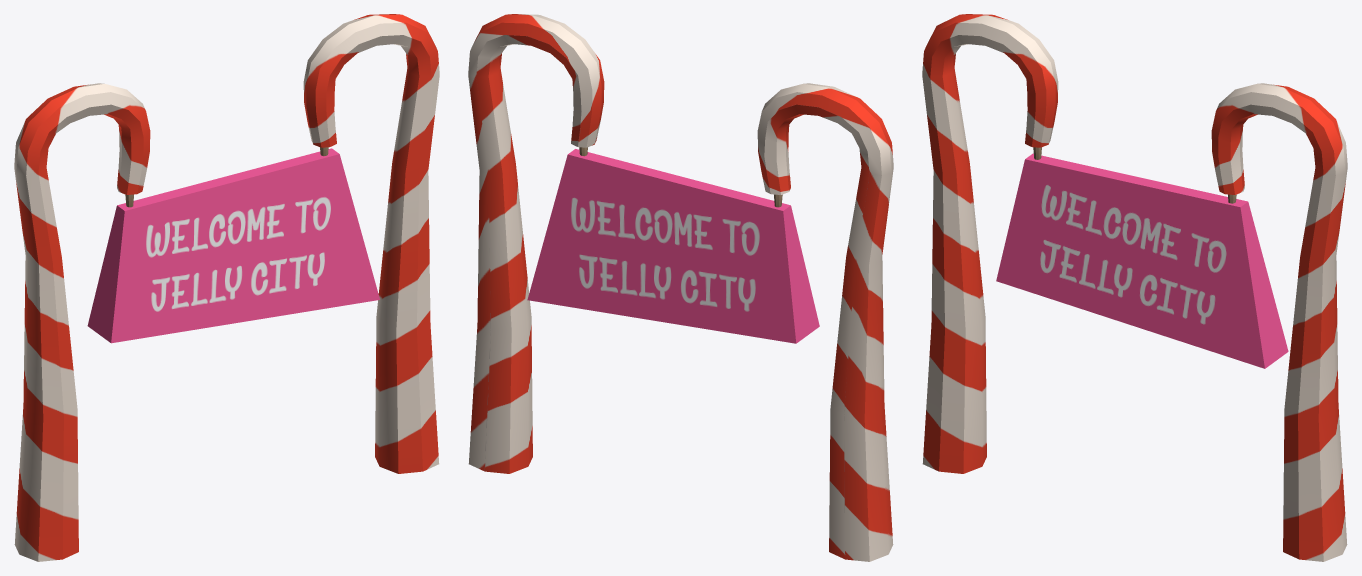
File: Jellycity.fbx
The picture shows the model from 3 angles, left to right: view 1: azimuth 30°, elevation 25°; view 2: azimuth 150°, elevation 25°; view 3: azimuth 330°, elevation 25°; orthographic projection.
Parts seen in each view (by area): view 1: polySurface51; view 2: polySurface51; view 3: polySurface51.
Part boxes in pixels (<box>): polySurface51: <box>14,14,439,561</box>; polySurface51: <box>468,14,893,561</box>; polySurface51: <box>922,14,1347,561</box>.
Bounding box in the file's own units: 7 × 7.2 × 0.9169.
